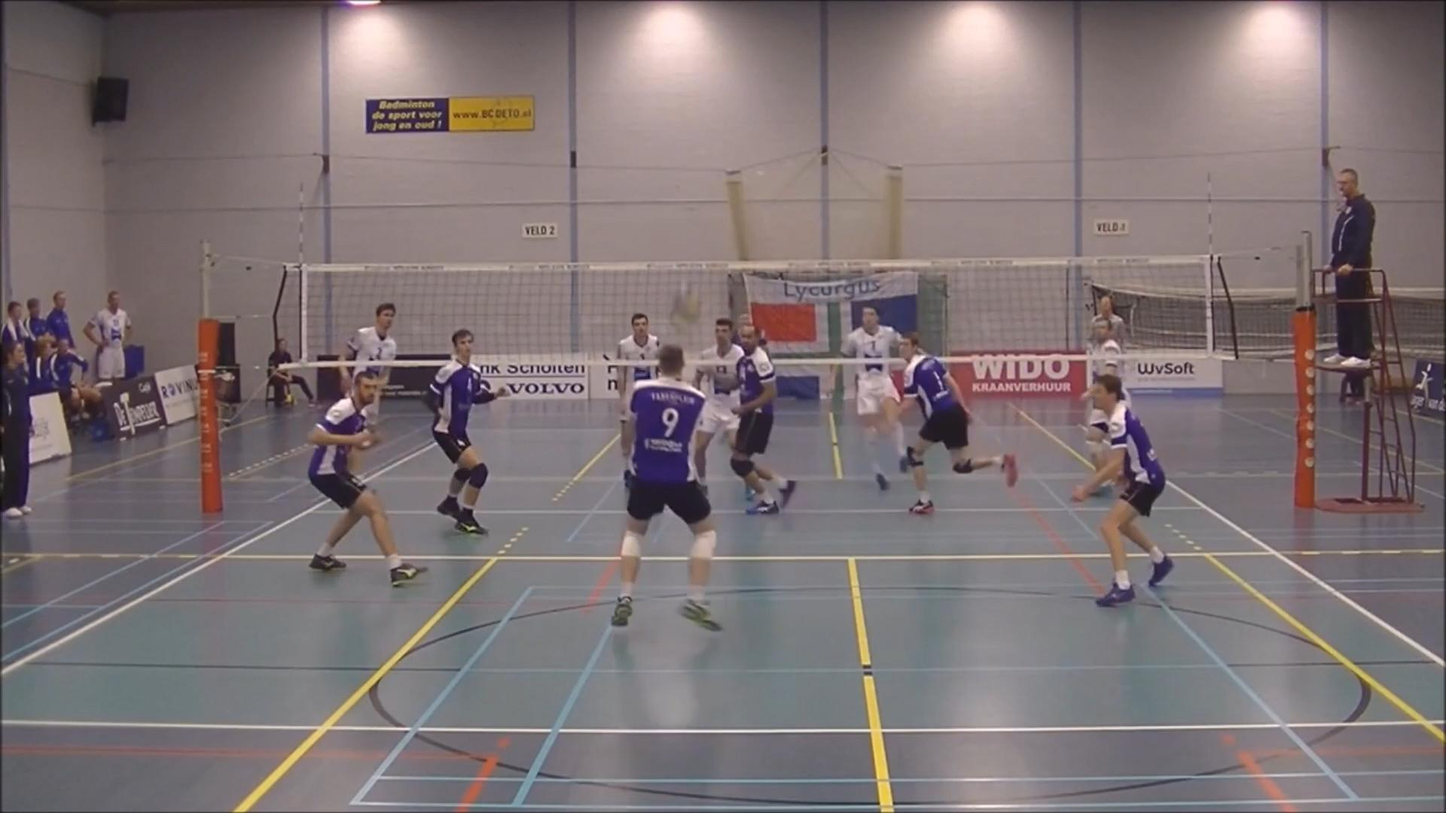ricezione: (610, 344, 742, 642)
